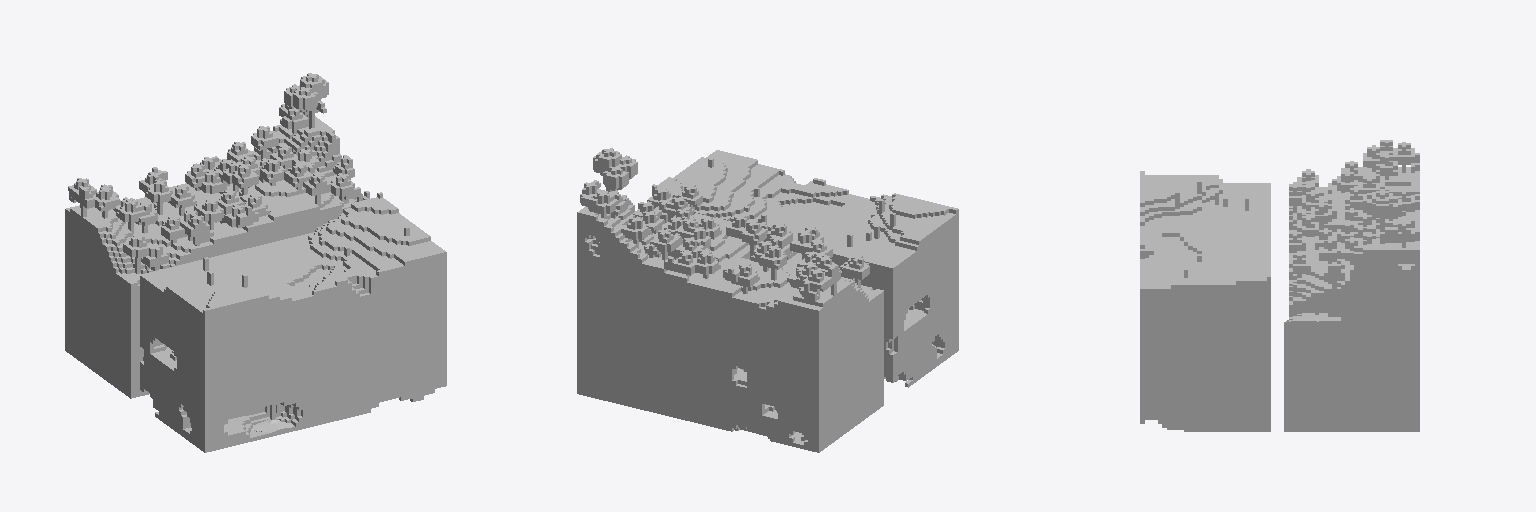
The model's file is large-desert-forest-separated.obj.
3 views of the same model, side by side, from view 1: azimuth 30°, elevation 25°; view 2: azimuth 150°, elevation 25°; view 3: azimuth 270°, elevation 25° (orthographic).
Parts seen in each view (by area): view 1: Honors_World__-76_141_-445_to_-13_211_-382; view 2: Honors_World__-76_141_-445_to_-13_211_-382; view 3: Honors_World__-76_141_-445_to_-13_211_-382.
Boxes of the visible parts, x1=… form: Honors_World__-76_141_-445_to_-13_211_-382: x1=65, y1=73, x2=446, y2=452; Honors_World__-76_141_-445_to_-13_211_-382: x1=577, y1=148, x2=958, y2=452; Honors_World__-76_141_-445_to_-13_211_-382: x1=1140, y1=140, x2=1419, y2=431.
Size of the model in its own units: 64 by 59 by 64.